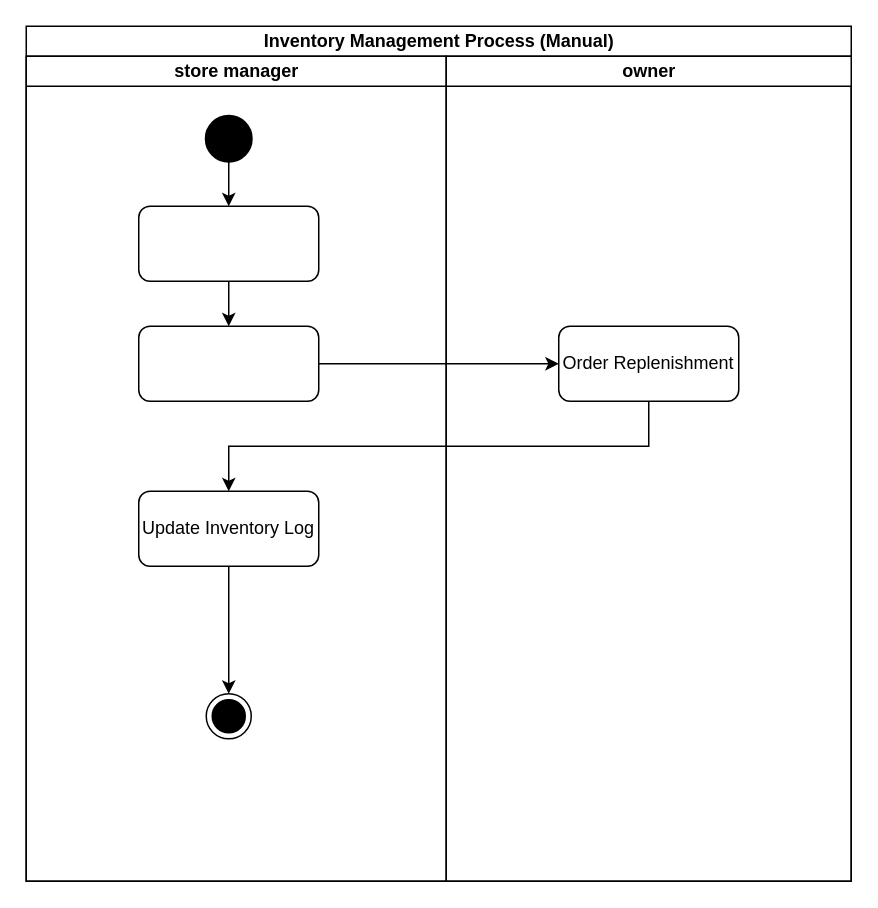
The diagram is 878 pixels wide and 908 high, and some of its shapes have lost their labels. Each missing label, with the centre of its shape:
"Check Stock Levels" belongs at (x=228, y=243).
"inform to owner" belongs at (x=228, y=363).
